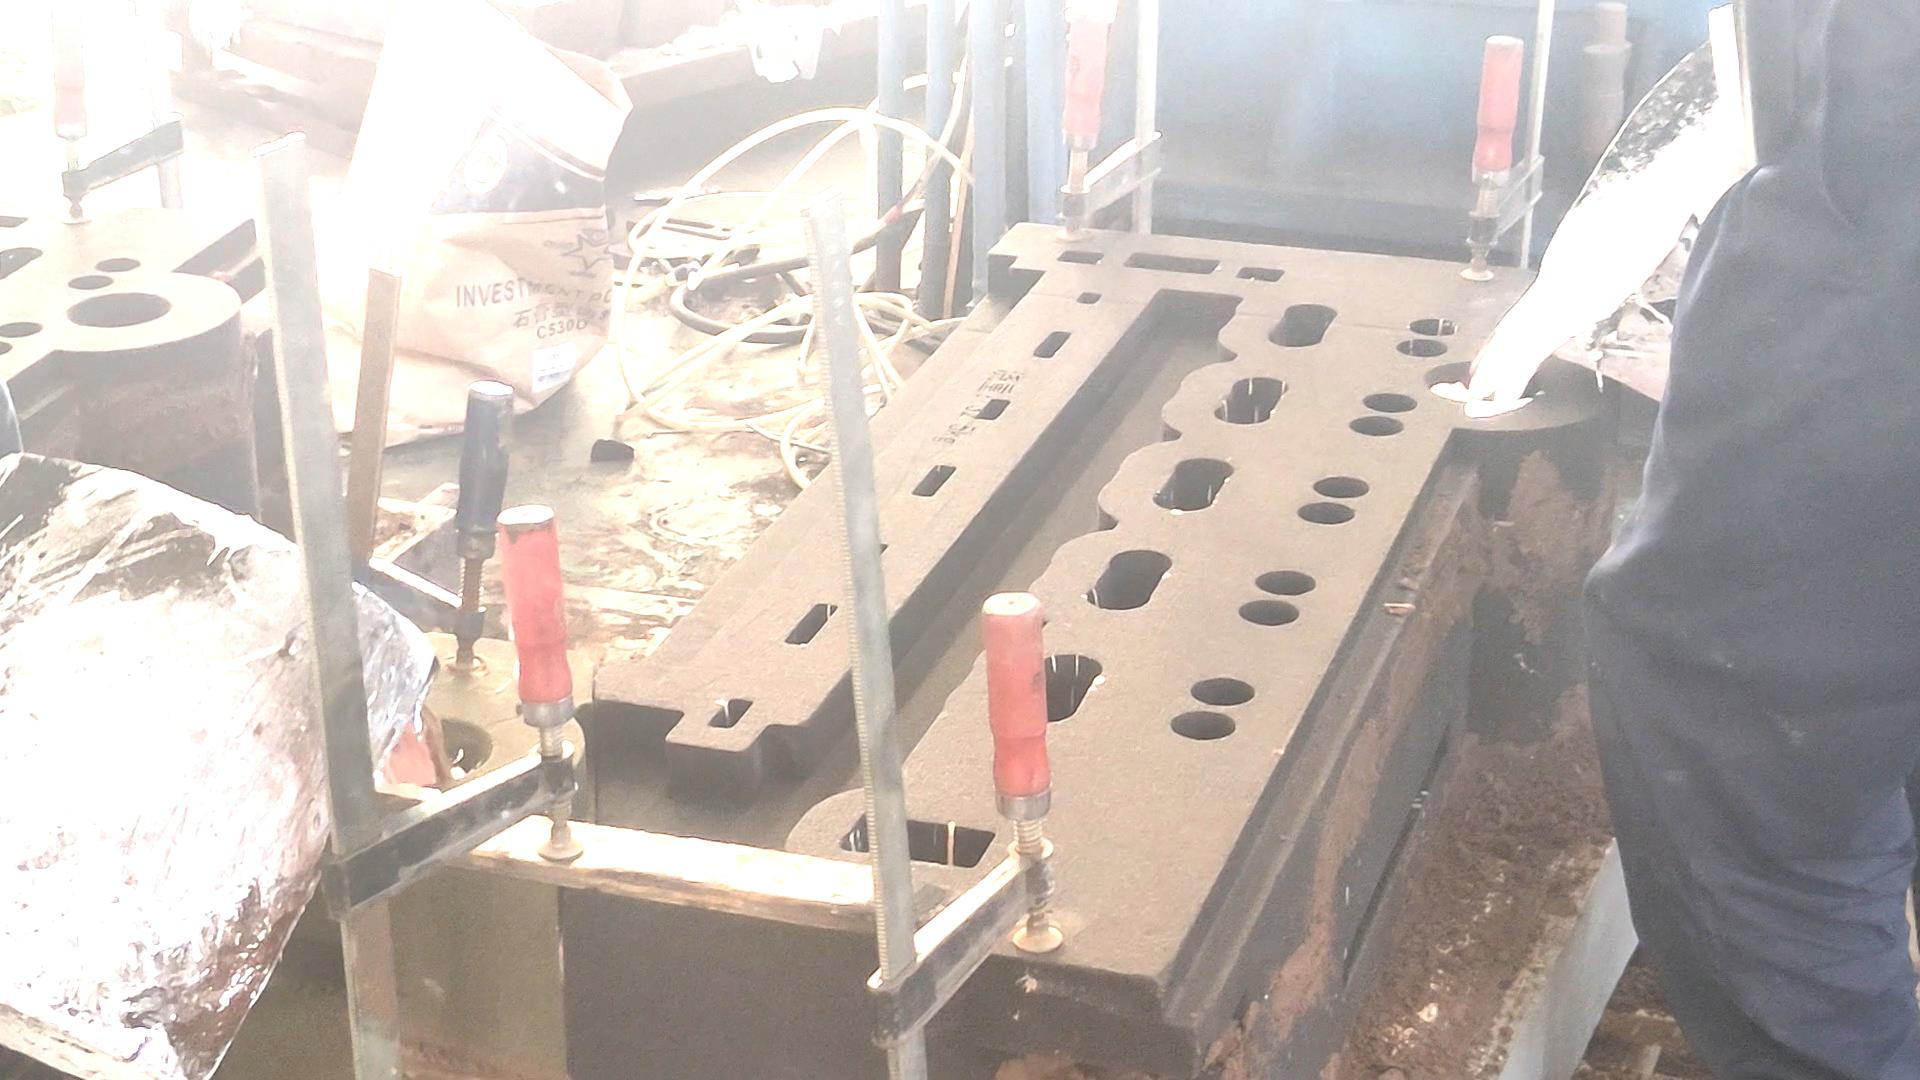pouring hole: (353, 712, 495, 793), (1423, 357, 1549, 407), (65, 293, 173, 328)
